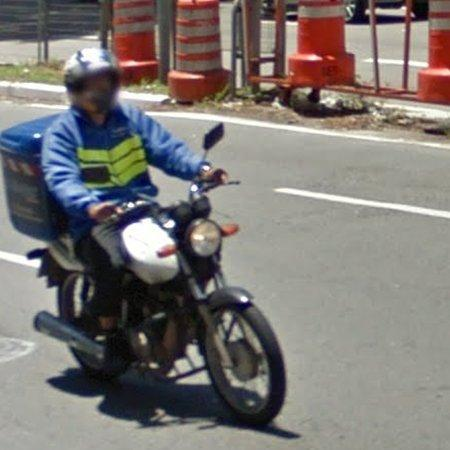motorcycles: (0, 116, 285, 425)
